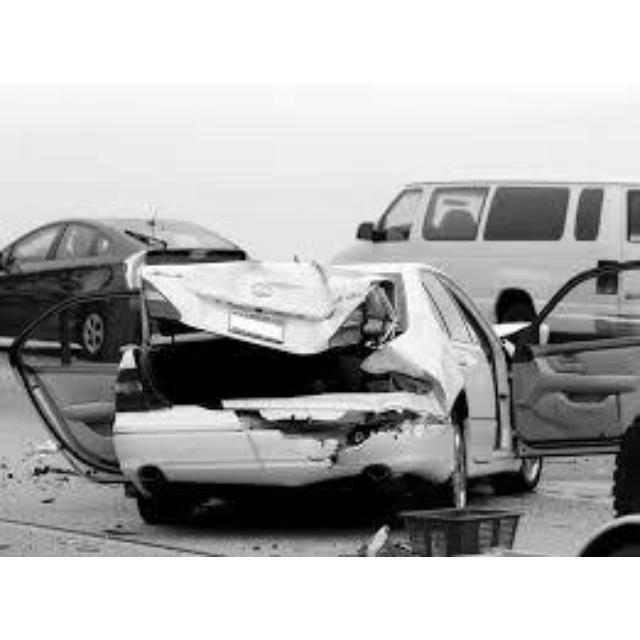Rear-windscreen-Damage: (196, 398, 426, 493)
bonnet-dent: (126, 236, 371, 373)
